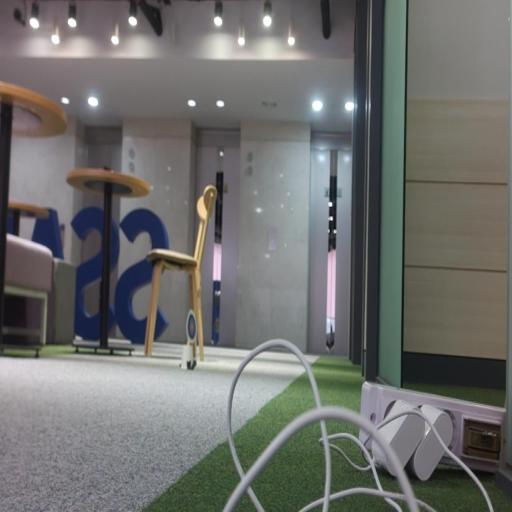target: (187, 309, 197, 344)
